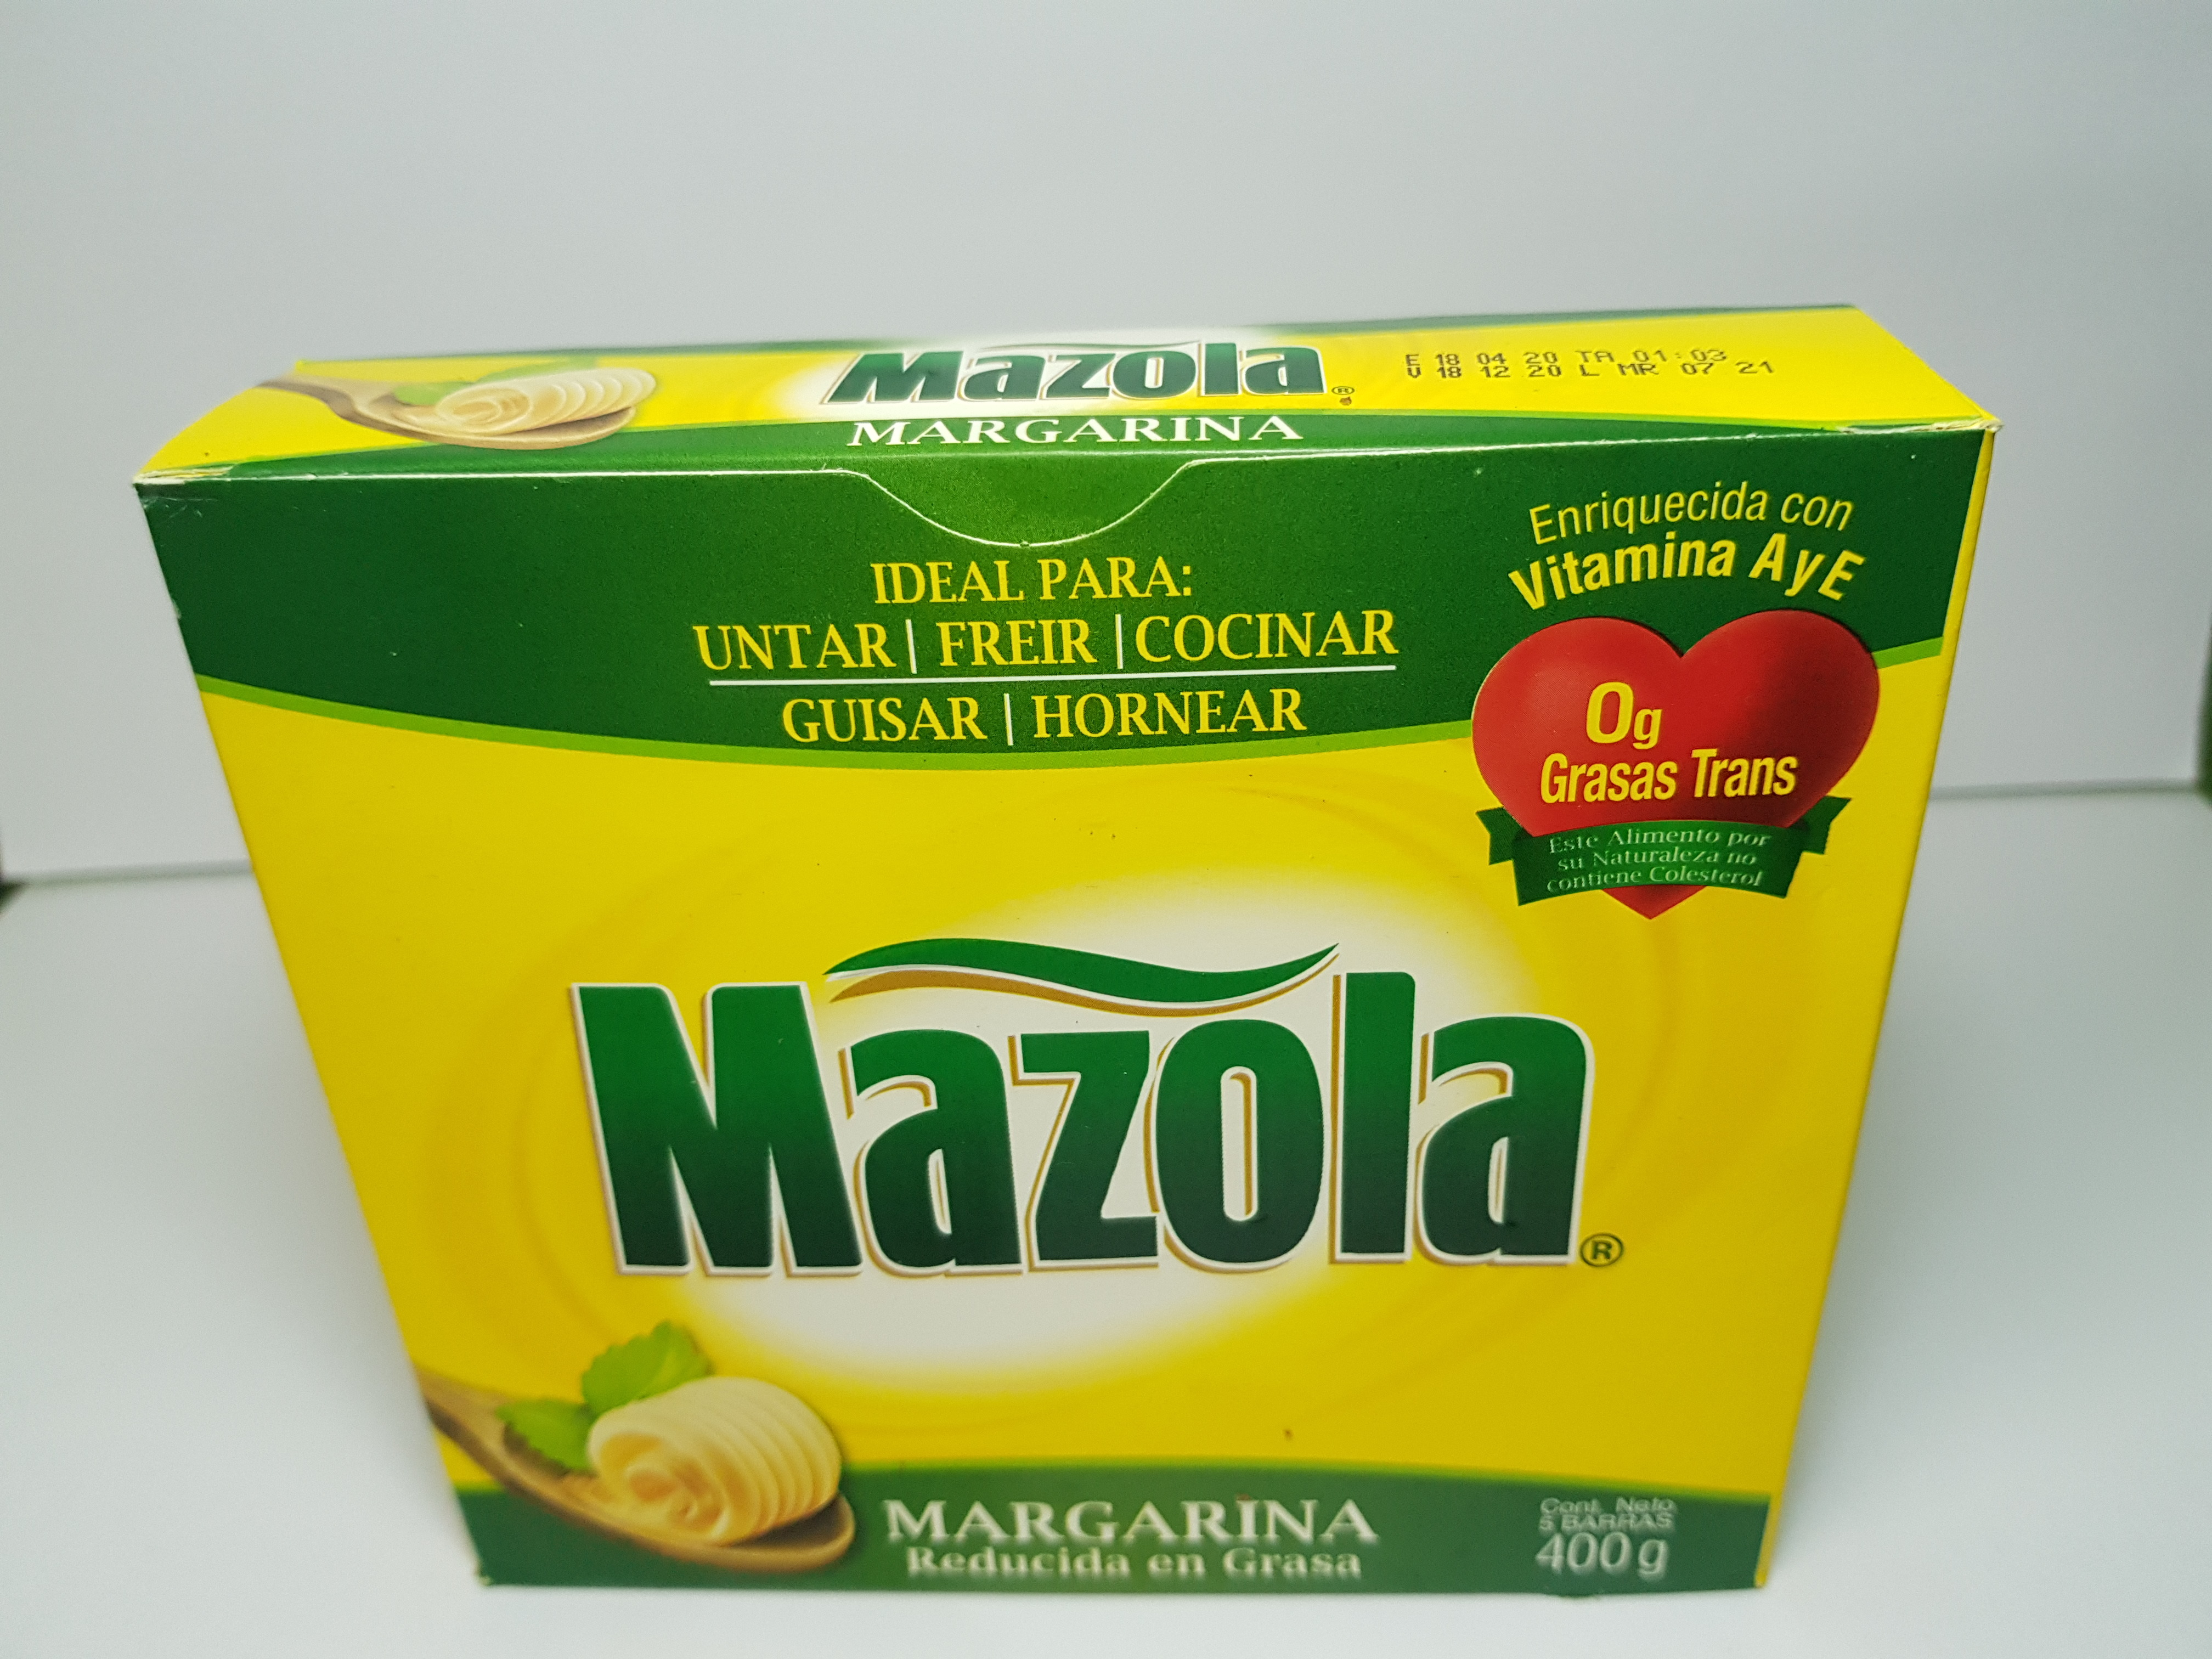mazola: (131, 284, 2033, 1628)
